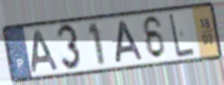1: (87, 22, 110, 68)
3: (55, 22, 84, 73)
6: (142, 15, 166, 61)
A: (114, 19, 145, 64), (31, 29, 61, 74)
L: (167, 12, 196, 60)
